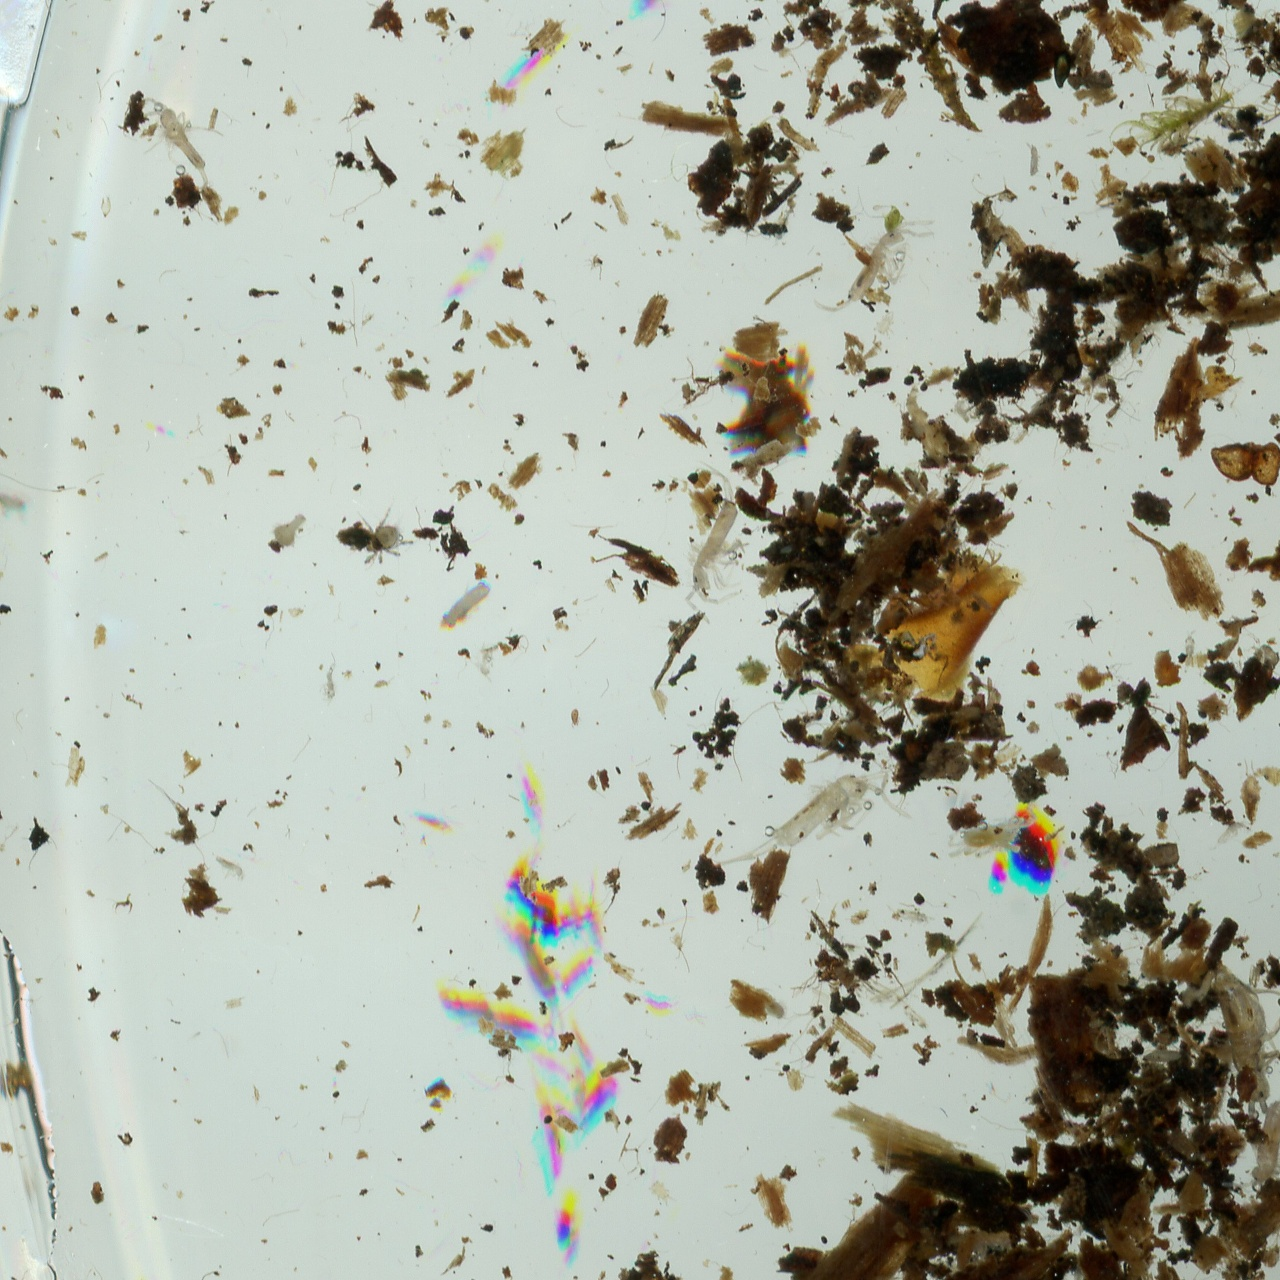arthropod: (703, 740, 924, 915), (804, 183, 942, 343), (113, 67, 245, 207), (663, 472, 777, 628), (1197, 951, 1280, 1122), (1217, 1088, 1280, 1205), (942, 802, 1040, 859), (429, 572, 501, 641), (356, 501, 414, 566), (1199, 811, 1257, 859), (750, 987, 801, 1023), (645, 1173, 682, 1214), (885, 900, 939, 928), (316, 647, 340, 708), (1142, 1043, 1186, 1067), (476, 642, 499, 683), (1180, 628, 1199, 678), (1026, 139, 1044, 179), (874, 308, 899, 338), (952, 392, 973, 425), (567, 706, 584, 731), (1071, 1266, 1082, 1280)
